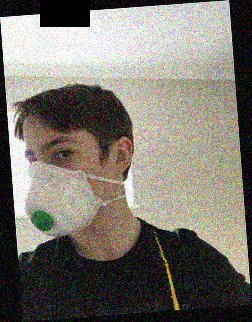with_mask: (21, 129, 108, 237)
